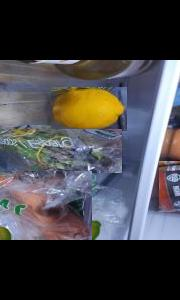Limón: (50, 87, 126, 131)
Zanahoria: (0, 171, 91, 240)
